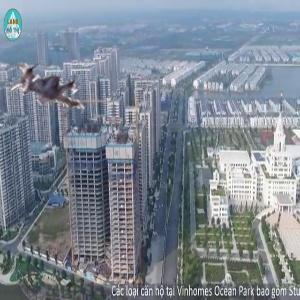drone: (1, 49, 94, 142)
